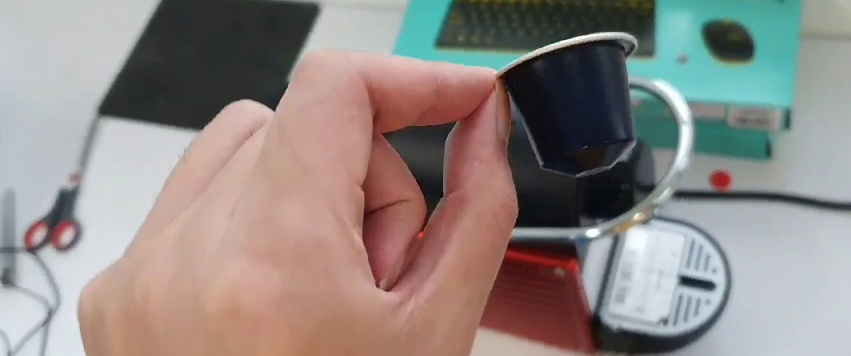capsule_1: (493, 29, 641, 178)
